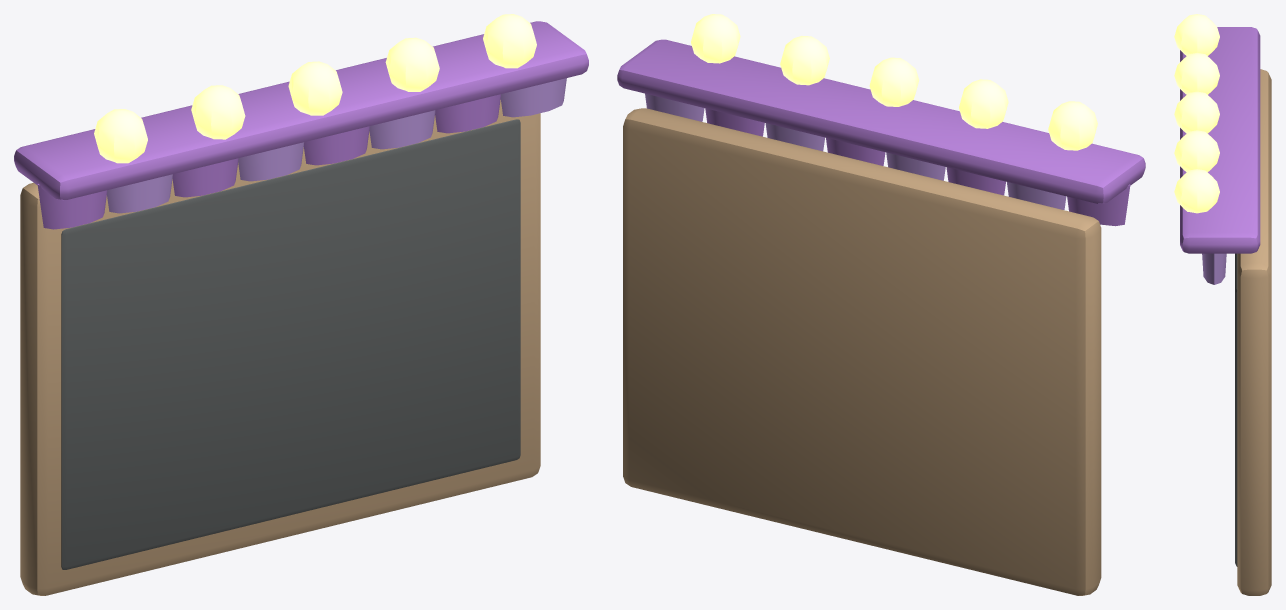
The model's file is Chalkboard_Awning.fbx.
3 renders of one model, left to right at view 1: azimuth 30°, elevation 25°; view 2: azimuth 150°, elevation 25°; view 3: azimuth 270°, elevation 25°, orthographic. The views are drawn at different scales.
Visible parts, largest first — view 1: Chalkboard_Awning; view 2: Chalkboard_Awning; view 3: Chalkboard_Awning.
Boxes of the visible parts, <box> form: Chalkboard_Awning: <box>14,14,588,595</box>; Chalkboard_Awning: <box>617,14,1145,595</box>; Chalkboard_Awning: <box>1174,14,1271,595</box>.
Bounding box in the file's own units: 4.4 × 3.9 × 0.85.
